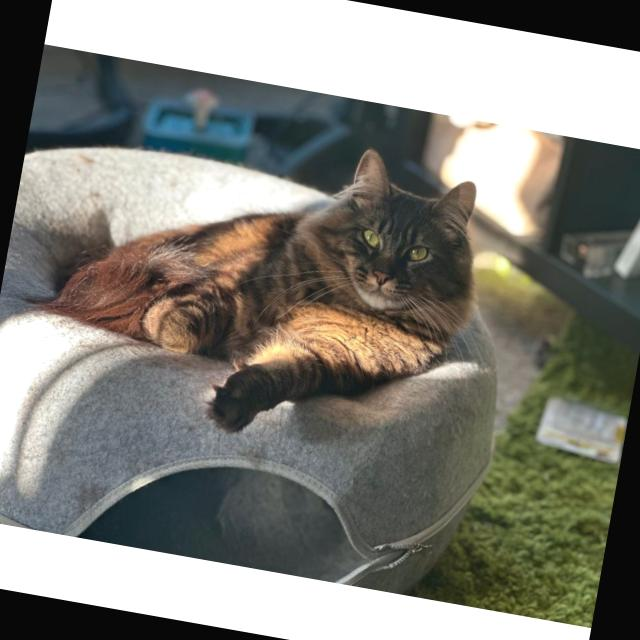maine_coon_cat: (268, 137, 501, 346)
